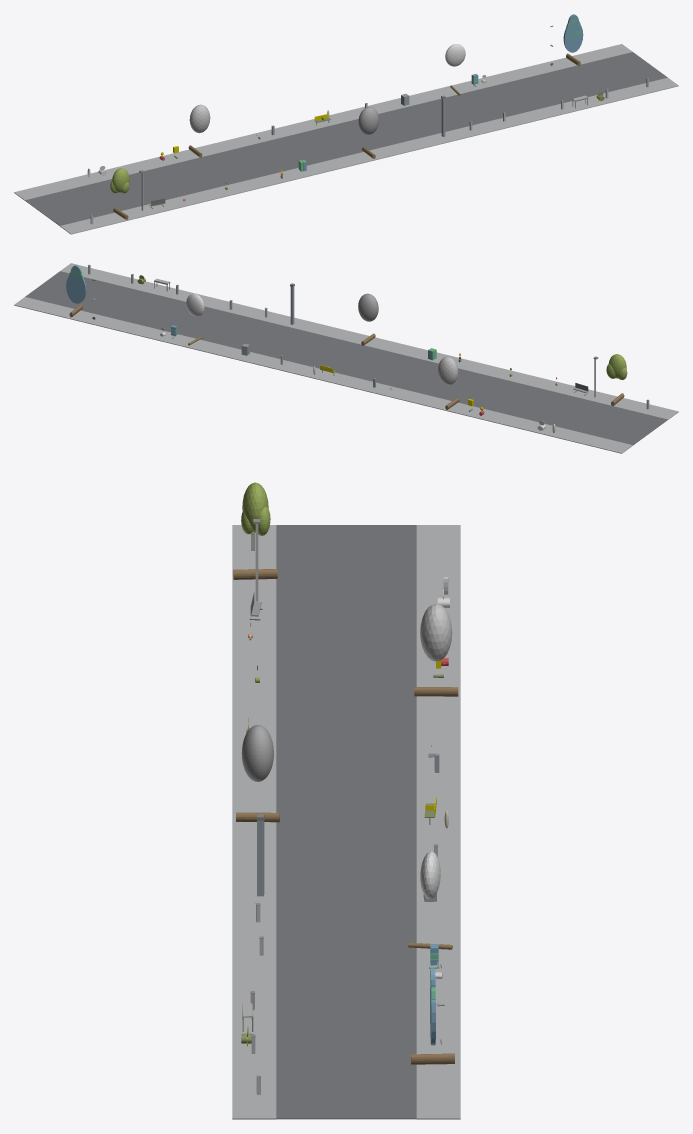
3 renders of one model, top to bottom at view 1: azimuth 30°, elevation 25°; view 2: azimuth 150°, elevation 25°; view 3: azimuth 270°, elevation 25°, orthographic. The views are drawn at different scales.
Parts seen in each view (by area): view 1: road_slab, sidewalk_left, sidewalk_right, inst_0016, inst_0013, inst_0014, inst_0012, inst_0015; view 2: road_slab, sidewalk_right, sidewalk_left, inst_0016, inst_0013, inst_0014, inst_0012, inst_0015; view 3: road_slab, sidewalk_left, sidewalk_right, inst_0013, inst_0014, inst_0012, inst_0015, inst_0016.
Boxes of the visible parts, x1,y1,x2,y2 form: road_slab: (25,52,667,225); sidewalk_left: (60,77,678,234); sidewalk_right: (14,44,632,200); inst_0016: (563,14,583,66); inst_0013: (188,104,210,157); inst_0014: (358,107,379,158); inst_0012: (110,168,129,219); inst_0015: (445,44,465,95); road_slab: (25,271,667,445); sidewalk_right: (14,297,632,453); sidewalk_left: (60,263,678,419); inst_0016: (66,265,86,317); inst_0013: (438,356,459,409); inst_0014: (358,293,378,345); inst_0012: (606,354,627,406); inst_0015: (186,293,204,345); road_slab: (276,525,416,1119); sidewalk_left: (232,525,276,1119); sidewalk_right: (416,525,460,1119); inst_0013: (414,603,458,696); inst_0014: (236,725,279,822); inst_0012: (233,482,277,579); inst_0015: (408,851,452,949); inst_0016: (411,968,454,1064).
Bounding box in the file's own units: 80 × 6.08 × 13.
